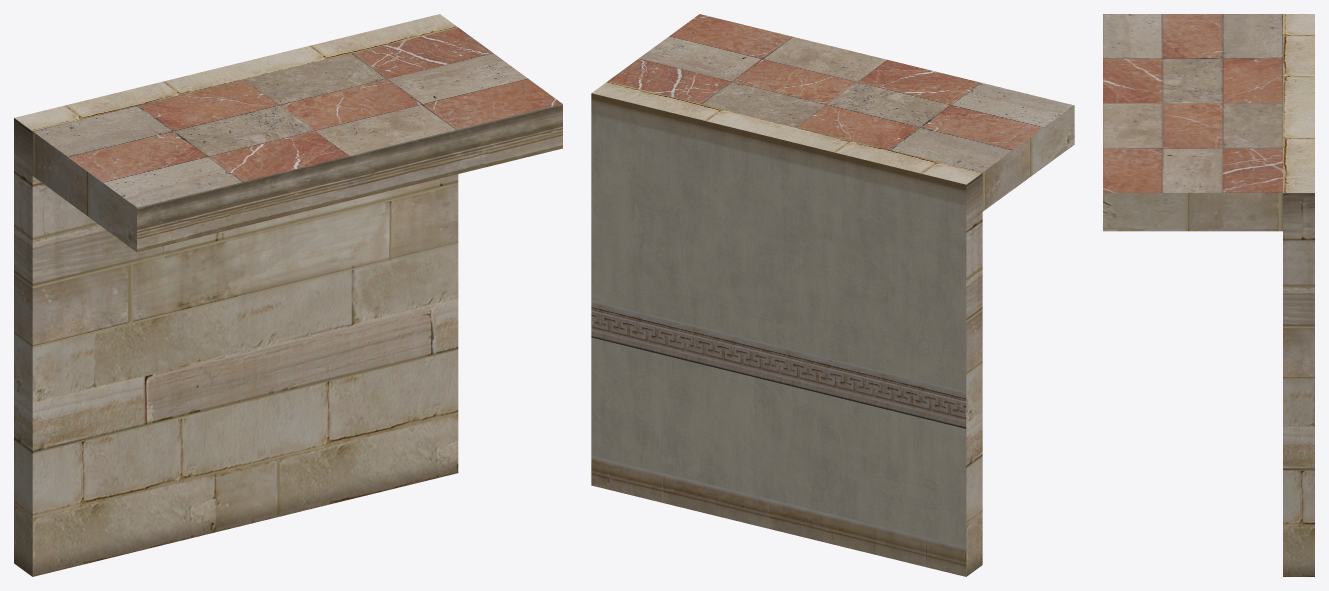
Rendered from svspartawall3.dae.
3 views of the same model, side by side, from view 1: azimuth 30°, elevation 25°; view 2: azimuth 150°, elevation 25°; view 3: azimuth 270°, elevation 25° (orthographic). The views are drawn at different scales.
Visible parts, largest first — view 1: unnamed_object6_sep9-0; view 2: unnamed_object6_sep9-0; view 3: unnamed_object6_sep9-0.
Part boxes in pixels (x1=…): unnamed_object6_sep9-0: x1=14, y1=14, x2=562, y2=576; unnamed_object6_sep9-0: x1=591, y1=14, x2=1074, y2=576; unnamed_object6_sep9-0: x1=1103, y1=14, x2=1314, y2=576.
Size of the model in its own units: 400 by 400 by 200.
